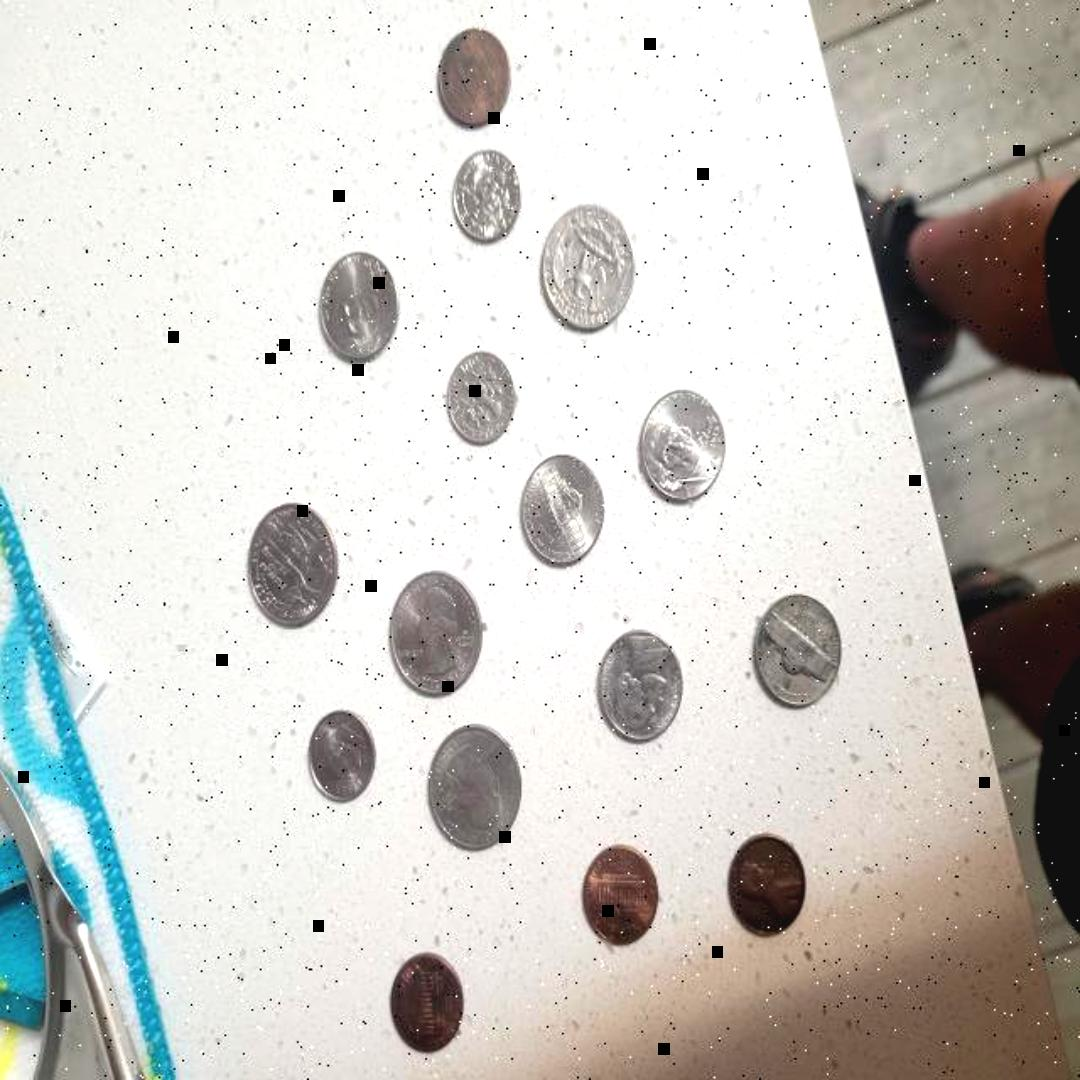Dime: (305, 708, 379, 806), (452, 146, 522, 248), (444, 350, 518, 446)
Nickel: (751, 590, 843, 711), (636, 386, 728, 506), (316, 249, 403, 365), (596, 630, 686, 742), (519, 453, 606, 567)
Penny: (725, 830, 806, 942), (388, 950, 466, 1058), (432, 26, 512, 130), (582, 843, 662, 945)
Quarter: (384, 567, 490, 700), (427, 722, 523, 858), (541, 203, 635, 339), (248, 500, 340, 630)
